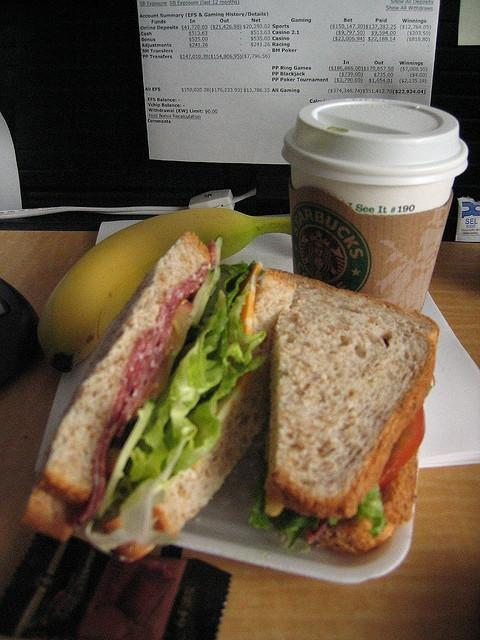banana: (37, 208, 291, 372)
lettuce: (85, 260, 269, 552), (245, 466, 388, 550)
tomato: (131, 300, 193, 422), (378, 406, 424, 489)
